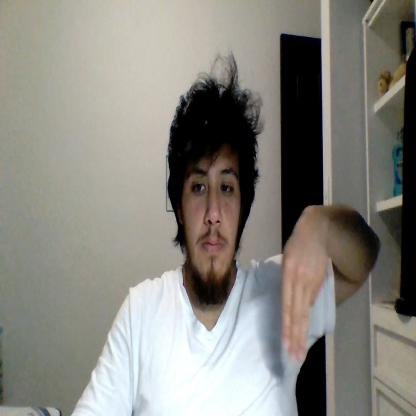M: (282, 221, 328, 364)
